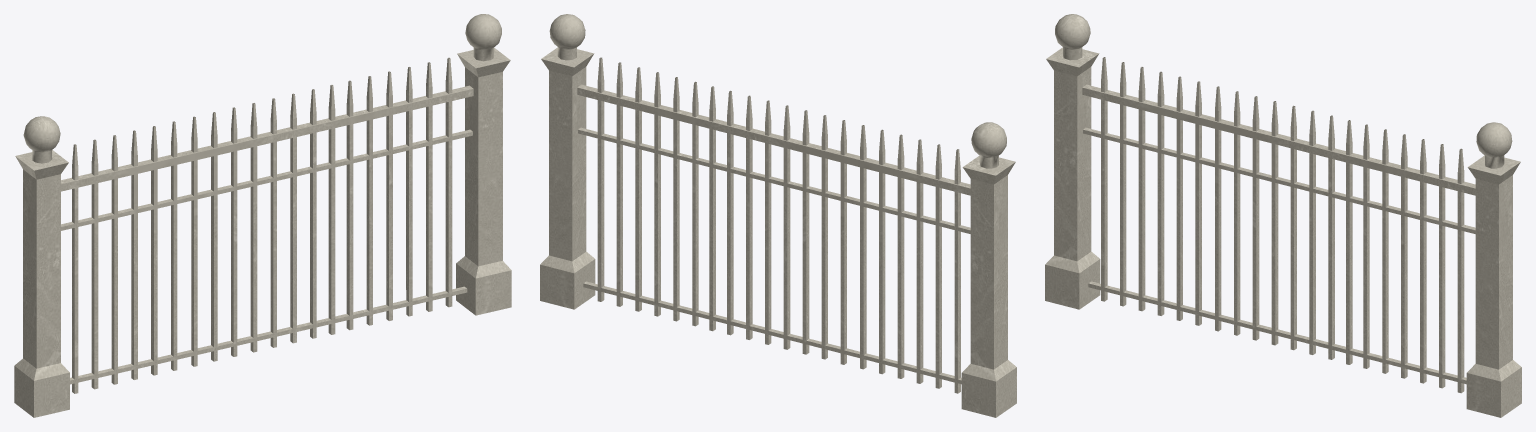
Rendered from AlabasterRailing.glb.
The picture shows the model from 3 angles, left to right: view 1: azimuth 30°, elevation 25°; view 2: azimuth 150°, elevation 25°; view 3: azimuth 330°, elevation 25°; orthographic projection. The views are drawn at different scales.
Visible parts, largest first — view 1: AlabasterRailing; view 2: AlabasterRailing; view 3: AlabasterRailing.
Boxes of the visible parts, x1,y1,x2,y2 form: AlabasterRailing: (14, 14, 511, 417); AlabasterRailing: (540, 14, 1016, 417); AlabasterRailing: (1045, 14, 1521, 417).
Size of what is drawn, in the model's own units: 2.07 by 1.21 by 0.202.
1 material, 1 textured.
